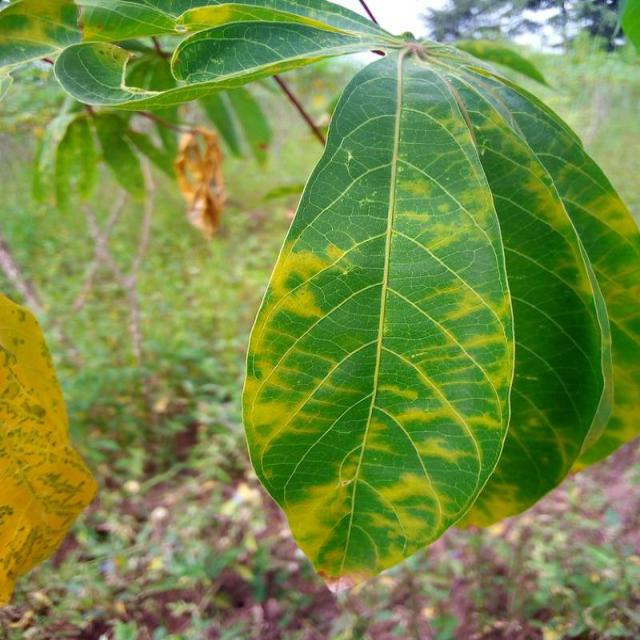cassava leaf: (240, 45, 517, 583), (0, 290, 98, 608)
